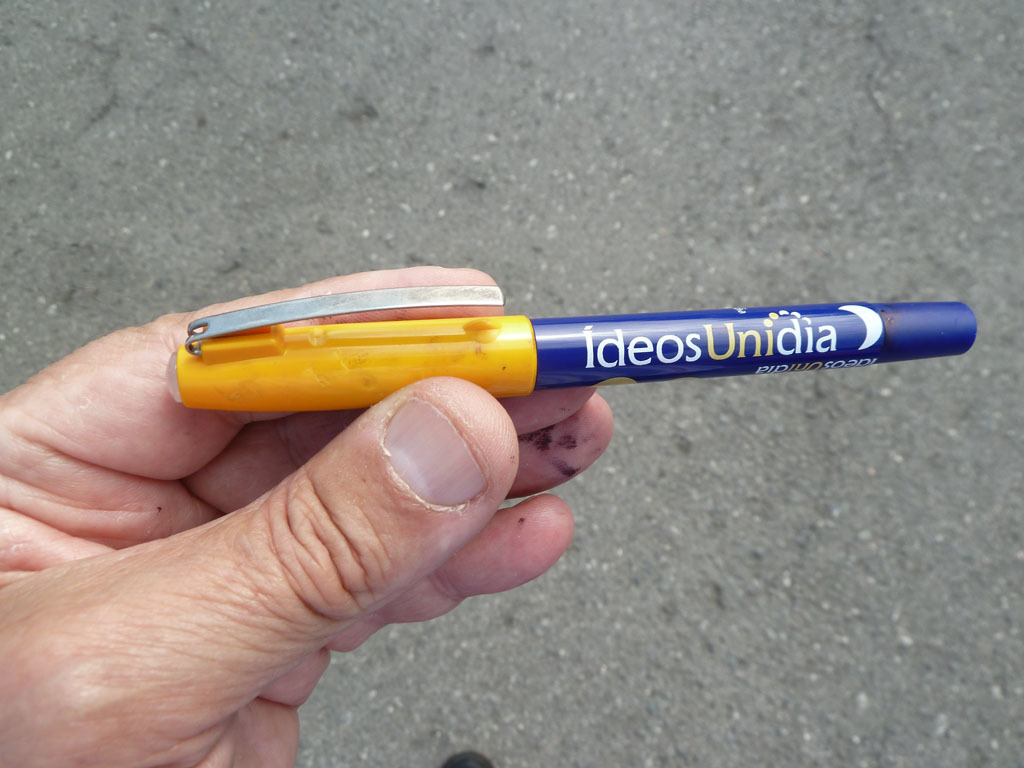Pen: (166, 286, 977, 411)
